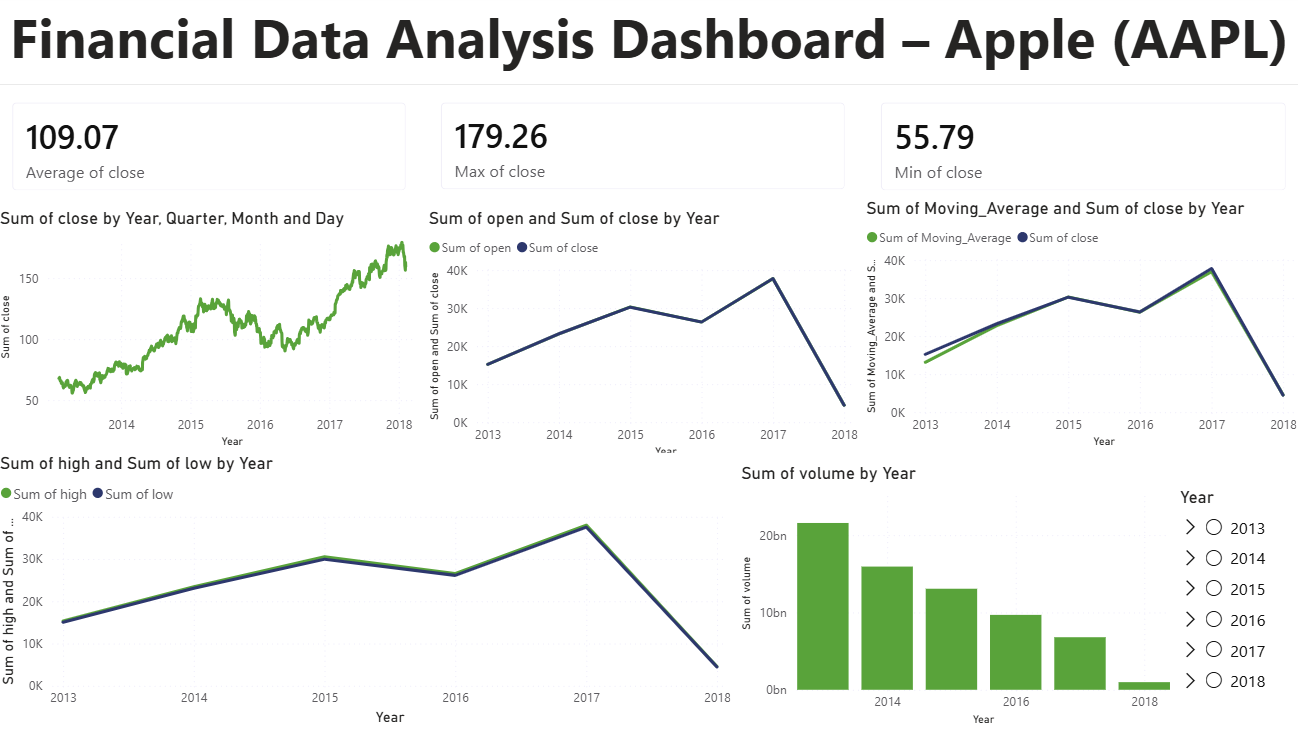

The page's visual inventory and layout, read from the dashboard file:
{"tool":"powerbi","page":{"name":"Page 1","canvas":[1280,720],"ordinal":0},"visuals":[{"type":"textbox","box":[0,0,1280.3,89.3],"z":0},{"type":"cardVisual","fields":{"Data":["Avg(apple_cleaned.close)"]},"box":[0,89.2,419.9,120.8],"z":1},{"type":"cardVisual","fields":{"Data":["Max(apple_cleaned.close)"]},"box":[419.9,89.2,429.5,119.4],"z":2},{"type":"cardVisual","fields":{"Data":["Min(apple_cleaned.close)"]},"box":[849.4,89.2,430,120],"z":3},{"type":"lineChart","fields":{"Y":["Sum(apple_cleaned.close)"],"Category":["apple_cleaned.date.Variation.Date Hierarchy.Year","apple_cleaned.date.Variation.Date Hierarchy.Quarter","apple_cleaned.date.Variation.Date Hierarchy.Month","apple_cleaned.date.Variation.Date Hierarchy.Day"]},"box":[0,208.6,420,240.1],"z":4},{"type":"lineChart","fields":{"Category":["apple_cleaned.date.Variation.Date Hierarchy.Year","apple_cleaned.date.Variation.Date Hierarchy.Quarter","apple_cleaned.date.Variation.Date Hierarchy.Month","apple_cleaned.date.Variation.Date Hierarchy.Day"],"Y":["Sum(apple_cleaned.open)","Sum(apple_cleaned.close)"]},"box":[419.9,208.6,429.5,249.7],"z":5},{"type":"lineChart","fields":{"Category":["apple_cleaned.date.Variation.Date Hierarchy.Year","apple_cleaned.date.Variation.Date Hierarchy.Quarter","apple_cleaned.date.Variation.Date Hierarchy.Month","apple_cleaned.date.Variation.Date Hierarchy.Day"],"Y":["Sum(apple_cleaned.high)","Sum(apple_cleaned.low)"]},"box":[0,448.7,724.5,271.7],"z":6},{"type":"clusteredColumnChart","fields":{"Category":["apple_cleaned.date.Variation.Date Hierarchy.Year","apple_cleaned.date.Variation.Date Hierarchy.Quarter","apple_cleaned.date.Variation.Date Hierarchy.Month","apple_cleaned.date.Variation.Date Hierarchy.Day"],"Y":["Sum(apple_cleaned.volume)"]},"box":[724.5,458.3,429.5,262.1],"z":7},{"type":"lineChart","fields":{"Category":["apple_cleaned.date.Variation.Date Hierarchy.Year","apple_cleaned.date.Variation.Date Hierarchy.Quarter","apple_cleaned.date.Variation.Date Hierarchy.Month","apple_cleaned.date.Variation.Date Hierarchy.Day"],"Y":["Sum(apple_cleaned.Moving_Average)","Sum(apple_cleaned.close)"]},"box":[848,199,430.9,249.7],"z":8},{"type":"listSlicer","fields":{"Values":["apple_cleaned.date.Variation.Date Hierarchy.Year","apple_cleaned.date.Variation.Date Hierarchy.Quarter","apple_cleaned.date.Variation.Date Hierarchy.Month","apple_cleaned.date.Variation.Date Hierarchy.Day"]},"box":[1154,481.6,126.2,238.8],"z":9}]}

Visuals, with their boxes in screenshot pixels (x1, y1, x2, y2), scaled from the page's 1280x720 canvas onto the 1298x730 screenshot:
textbox: detection(0, 0, 1297, 91)
cardVisual - Avg(apple_cleaned.close): detection(0, 90, 426, 213)
cardVisual - Max(apple_cleaned.close): detection(426, 90, 861, 211)
cardVisual - Min(apple_cleaned.close): detection(861, 90, 1297, 212)
lineChart - Sum(apple_cleaned.close) x apple_cleaned.date.Variation.Date Hierarchy.Year: detection(0, 211, 426, 455)
lineChart - apple_cleaned.date.Variation.Date Hierarchy.Year x apple_cleaned.date.Variation.Date Hierarchy.Quarter: detection(426, 211, 861, 465)
lineChart - apple_cleaned.date.Variation.Date Hierarchy.Year x apple_cleaned.date.Variation.Date Hierarchy.Quarter: detection(0, 455, 735, 729)
clusteredColumnChart - apple_cleaned.date.Variation.Date Hierarchy.Year x apple_cleaned.date.Variation.Date Hierarchy.Quarter: detection(735, 465, 1170, 729)
lineChart - apple_cleaned.date.Variation.Date Hierarchy.Year x apple_cleaned.date.Variation.Date Hierarchy.Quarter: detection(860, 202, 1297, 455)
listSlicer - apple_cleaned.date.Variation.Date Hierarchy.Year x apple_cleaned.date.Variation.Date Hierarchy.Quarter: detection(1170, 488, 1297, 729)
